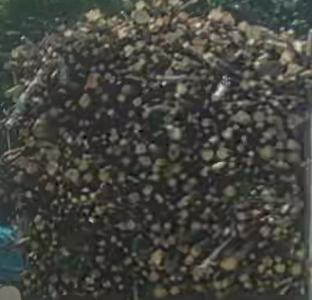medium: (0, 284, 22, 299), (230, 112, 250, 127), (149, 250, 168, 265), (65, 170, 80, 187), (87, 74, 102, 90), (167, 144, 180, 162), (165, 30, 186, 41), (258, 225, 273, 239), (218, 14, 237, 25), (133, 10, 149, 23), (34, 119, 45, 137), (47, 148, 61, 162), (47, 160, 59, 175), (287, 64, 304, 74), (277, 54, 292, 65), (260, 147, 272, 160), (221, 260, 235, 271), (137, 156, 151, 167), (200, 150, 213, 161), (176, 83, 187, 95), (255, 110, 266, 122), (149, 273, 160, 284), (94, 255, 106, 265), (135, 143, 146, 153), (149, 144, 159, 153)
small: (78, 93, 92, 110), (134, 39, 149, 52), (290, 264, 304, 277), (183, 255, 196, 267), (223, 186, 236, 198), (122, 43, 132, 58), (211, 161, 227, 170), (83, 171, 95, 183), (191, 244, 202, 257), (169, 128, 182, 139), (154, 287, 167, 298), (128, 193, 140, 204), (142, 185, 154, 196), (288, 153, 299, 165), (215, 150, 229, 159), (170, 166, 184, 174), (179, 266, 190, 276), (151, 222, 162, 232), (132, 98, 143, 108), (239, 274, 249, 284), (281, 203, 291, 213), (275, 265, 286, 274), (63, 28, 74, 37), (240, 80, 249, 90), (121, 85, 130, 95), (167, 179, 177, 188), (159, 239, 168, 249), (155, 194, 163, 205), (100, 93, 108, 104), (234, 214, 245, 222), (265, 256, 273, 267), (176, 245, 187, 253), (27, 164, 35, 175), (295, 42, 303, 53), (48, 283, 55, 295), (181, 185, 193, 192), (170, 288, 179, 297), (113, 275, 122, 284), (117, 94, 126, 103), (127, 220, 136, 229), (97, 240, 107, 248), (191, 223, 201, 231), (199, 166, 207, 176), (179, 197, 189, 205), (267, 115, 277, 123), (67, 54, 75, 64), (193, 39, 206, 45), (193, 47, 206, 53), (135, 123, 142, 134), (108, 236, 117, 244), (163, 222, 171, 231), (262, 189, 271, 197), (222, 228, 231, 236), (122, 259, 131, 267), (77, 27, 89, 33), (241, 70, 250, 78), (287, 141, 294, 151), (154, 160, 165, 166), (275, 152, 286, 158), (158, 18, 164, 29), (147, 176, 160, 181), (93, 112, 101, 120), (23, 280, 31, 288), (120, 139, 128, 147), (49, 275, 57, 283), (123, 158, 131, 166), (62, 247, 70, 255), (82, 244, 89, 253), (50, 290, 57, 299), (214, 281, 221, 290), (223, 278, 230, 287), (101, 173, 110, 180), (247, 80, 256, 87), (245, 40, 255, 46), (112, 148, 122, 154), (291, 186, 297, 196), (111, 129, 119, 136), (258, 265, 265, 273), (191, 177, 199, 184), (182, 40, 190, 47), (202, 119, 209, 127), (119, 221, 126, 229), (238, 226, 246, 233), (180, 13, 187, 21), (167, 124, 175, 131), (110, 77, 118, 84), (203, 84, 211, 91), (251, 210, 262, 215), (108, 109, 114, 118), (210, 137, 219, 143), (263, 132, 272, 138), (104, 147, 113, 153), (289, 247, 295, 256), (217, 27, 226, 33), (254, 168, 260, 177), (244, 283, 251, 290), (127, 110, 134, 117), (168, 237, 175, 244), (154, 237, 161, 244), (224, 132, 231, 139), (182, 210, 189, 217), (144, 196, 151, 203), (39, 49, 46, 56), (118, 283, 124, 291), (106, 280, 112, 288), (207, 186, 215, 192), (201, 213, 209, 219), (198, 131, 204, 139), (106, 73, 112, 81), (31, 242, 39, 248), (111, 264, 116, 273), (123, 248, 129, 255), (98, 248, 105, 254), (58, 286, 65, 292), (40, 265, 46, 272), (195, 200, 202, 206), (122, 131, 129, 137), (86, 278, 93, 284), (81, 195, 87, 202), (277, 142, 283, 149), (226, 103, 232, 110), (108, 210, 115, 216), (265, 282, 272, 288), (67, 136, 73, 143), (47, 184, 54, 190), (52, 231, 58, 238), (82, 51, 89, 57), (135, 63, 141, 70), (216, 46, 222, 53), (237, 145, 245, 150), (263, 75, 271, 80), (26, 190, 31, 198), (96, 206, 101, 214), (263, 85, 271, 90), (177, 277, 183, 283), (130, 252, 136, 258), (102, 283, 108, 289), (63, 290, 69, 296), (63, 279, 69, 285), (146, 215, 152, 221), (168, 204, 174, 210), (125, 124, 131, 130), (180, 174, 186, 180), (299, 251, 305, 257), (108, 64, 114, 70), (76, 64, 82, 70), (88, 219, 97, 223), (210, 34, 219, 38), (83, 209, 89, 215), (103, 217, 109, 223), (56, 217, 62, 223), (235, 50, 241, 56), (259, 81, 265, 87), (299, 89, 305, 95), (155, 74, 161, 80), (140, 59, 146, 65), (100, 264, 105, 271), (117, 241, 122, 248), (29, 251, 34, 258), (110, 136, 115, 143), (67, 192, 72, 199), (139, 174, 146, 179), (266, 91, 273, 96), (154, 165, 159, 172), (278, 75, 285, 80), (98, 64, 105, 69), (236, 100, 243, 105), (269, 175, 276, 180), (76, 135, 81, 142), (79, 119, 84, 126), (86, 120, 91, 127), (23, 290, 30, 295), (210, 62, 217, 67), (259, 97, 266, 102), (236, 181, 241, 188), (54, 51, 59, 58), (153, 59, 160, 64), (138, 222, 142, 230), (170, 275, 175, 281), (72, 198, 78, 203), (206, 208, 212, 213), (145, 209, 151, 214), (205, 129, 211, 134), (150, 45, 155, 51), (269, 109, 275, 114), (38, 225, 43, 231), (35, 216, 41, 221), (294, 283, 299, 289), (58, 190, 64, 195), (36, 187, 41, 193), (203, 54, 209, 59), (258, 105, 264, 110), (141, 82, 146, 88), (143, 91, 149, 96), (92, 50, 98, 55), (292, 101, 298, 106), (48, 48, 53, 54), (82, 188, 89, 192), (247, 152, 254, 156), (207, 53, 214, 57), (218, 115, 225, 119), (194, 141, 198, 148), (195, 153, 199, 160), (212, 58, 219, 62), (232, 126, 241, 129), (80, 257, 85, 262), (52, 241, 57, 246), (251, 189, 256, 194), (101, 133, 106, 138), (257, 243, 262, 248), (274, 229, 279, 234), (276, 257, 281, 262), (186, 157, 191, 162), (196, 24, 201, 29), (242, 261, 247, 266), (58, 183, 63, 188), (240, 197, 245, 202), (42, 57, 47, 62), (74, 283, 78, 289), (50, 246, 54, 252), (33, 255, 37, 261), (242, 135, 246, 141), (229, 163, 235, 167), (220, 205, 226, 209), (212, 225, 218, 229), (211, 216, 217, 220), (139, 261, 145, 265), (291, 77, 297, 81), (174, 54, 180, 58), (204, 143, 210, 147), (177, 220, 183, 224), (94, 292, 100, 296), (47, 253, 53, 257), (203, 104, 209, 108), (151, 55, 157, 59), (211, 43, 217, 47), (246, 62, 252, 66), (94, 139, 101, 142), (36, 261, 40, 266), (47, 261, 51, 266), (166, 201, 170, 206), (114, 135, 118, 140), (279, 162, 283, 167), (290, 124, 295, 128), (162, 82, 167, 86), (90, 67, 95, 71), (98, 231, 103, 235), (210, 108, 214, 113), (224, 34, 228, 39), (258, 185, 263, 189), (175, 93, 179, 98), (123, 185, 128, 189), (54, 200, 58, 205), (57, 176, 62, 180), (42, 234, 47, 238), (209, 75, 214, 79), (150, 25, 155, 29), (227, 128, 233, 131), (231, 157, 237, 160), (207, 196, 213, 199), (200, 71, 206, 74), (105, 44, 111, 47), (259, 289, 265, 292), (43, 295, 47, 299), (30, 261, 34, 265), (257, 63, 261, 67), (118, 198, 122, 202), (230, 171, 234, 175), (103, 141, 107, 145), (203, 225, 207, 229), (251, 255, 255, 259), (302, 291, 306, 295), (294, 240, 298, 244), (297, 233, 301, 237), (273, 285, 277, 289), (144, 272, 148, 276), (108, 204, 116, 206), (257, 282, 261, 286), (269, 271, 273, 275), (285, 229, 289, 233), (285, 218, 289, 222), (67, 205, 71, 209), (81, 219, 85, 223), (114, 185, 118, 189), (43, 175, 47, 179), (39, 178, 43, 182), (187, 116, 191, 120), (31, 275, 34, 280), (266, 206, 271, 209), (245, 169, 250, 172), (61, 199, 66, 202), (205, 100, 210, 103), (117, 82, 121, 85), (233, 95, 237, 98), (270, 218, 274, 221), (262, 218, 266, 221), (289, 107, 293, 110), (53, 216, 56, 220), (302, 99, 305, 103), (211, 48, 215, 51), (64, 212, 69, 214), (39, 281, 41, 286), (275, 103, 278, 106)
